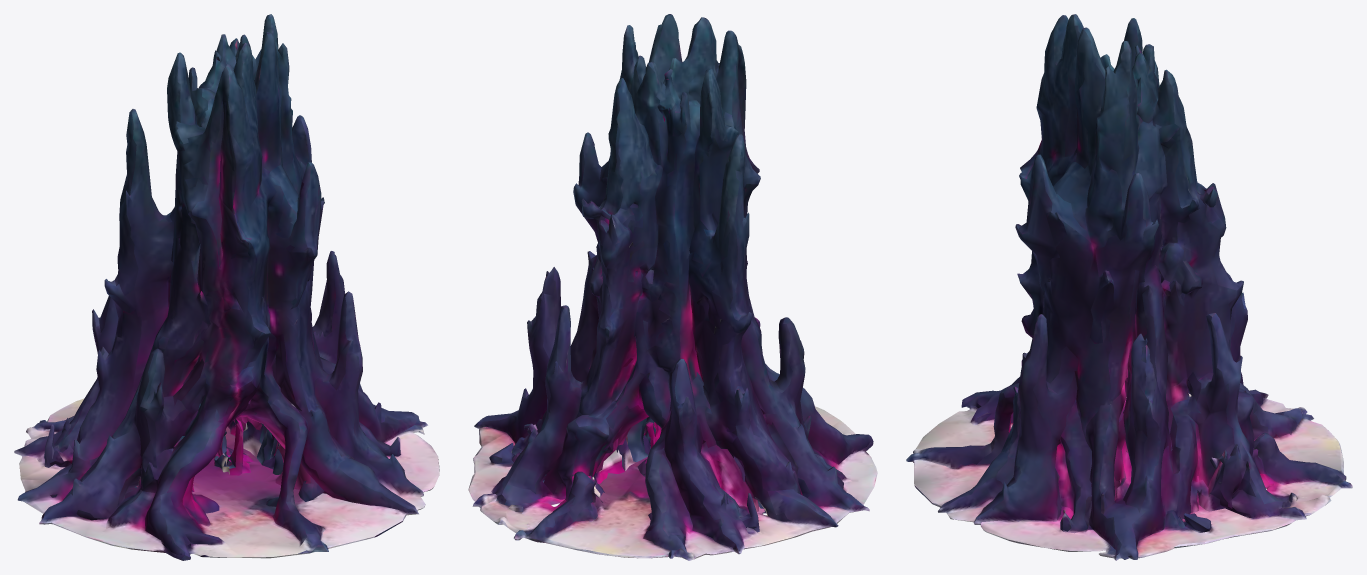
File: root-southeast-generated-2026-04-19T17-16-26-636Z.low.glb
3 views of the same model, side by side, from view 1: azimuth 30°, elevation 25°; view 2: azimuth 150°, elevation 25°; view 3: azimuth 270°, elevation 25° (orthographic). The views are drawn at different scales.
Visible parts, largest first — view 1: temp_mesh.ply; view 2: temp_mesh.ply; view 3: temp_mesh.ply.
Part boxes in pixels (<box>): temp_mesh.ply: <box>14,14,439,560</box>; temp_mesh.ply: <box>468,14,877,560</box>; temp_mesh.ply: <box>906,14,1352,560</box>.
Size of the model in its own units: 1.8 by 1.97 by 1.77.
1 material, 1 textured.
